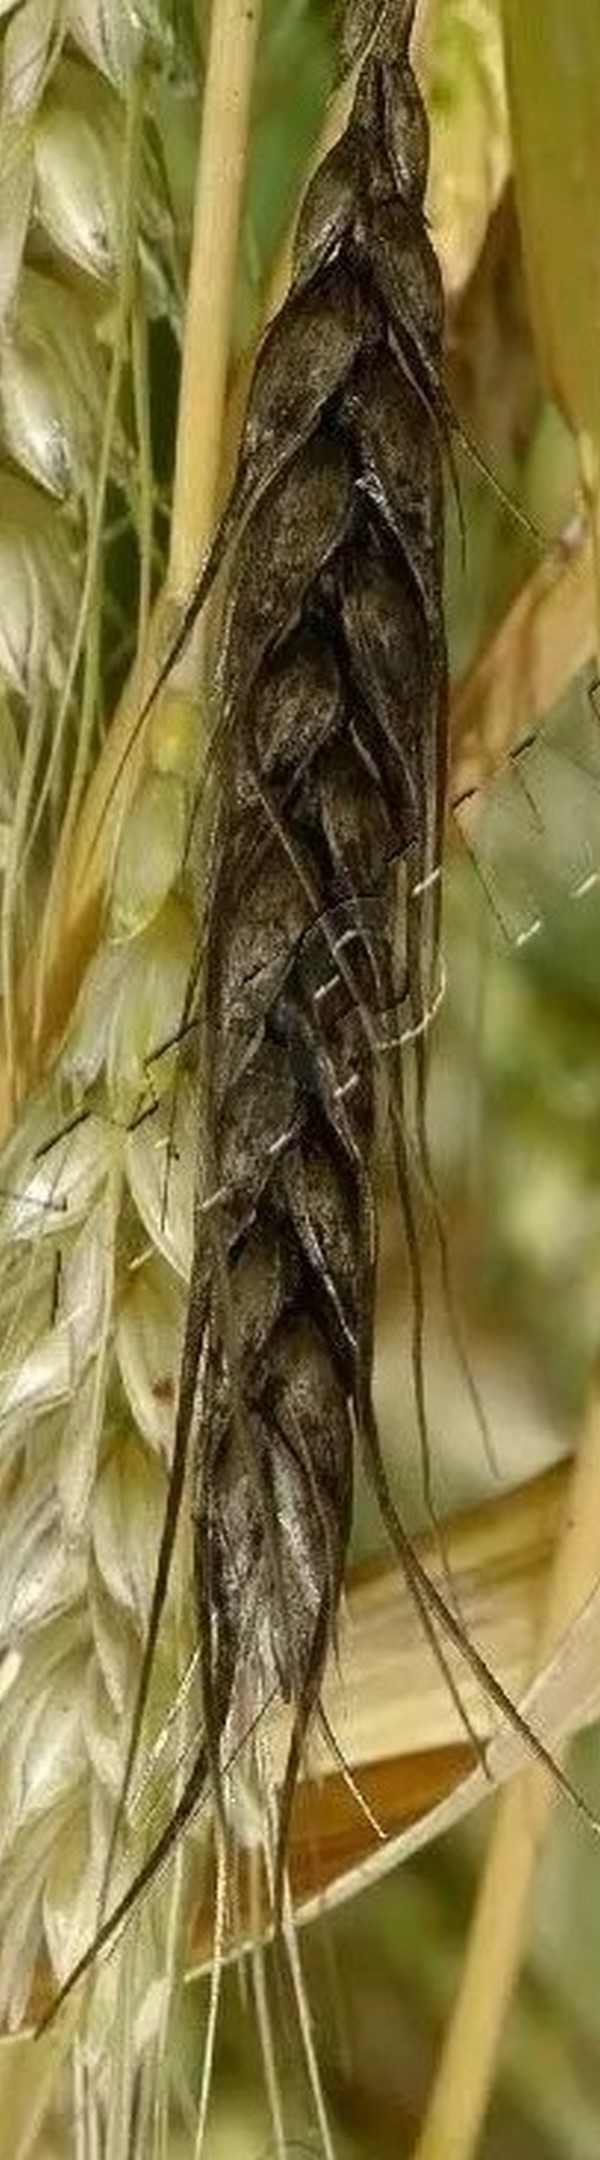Wheat Loose Smut: (150, 87, 524, 1810)
